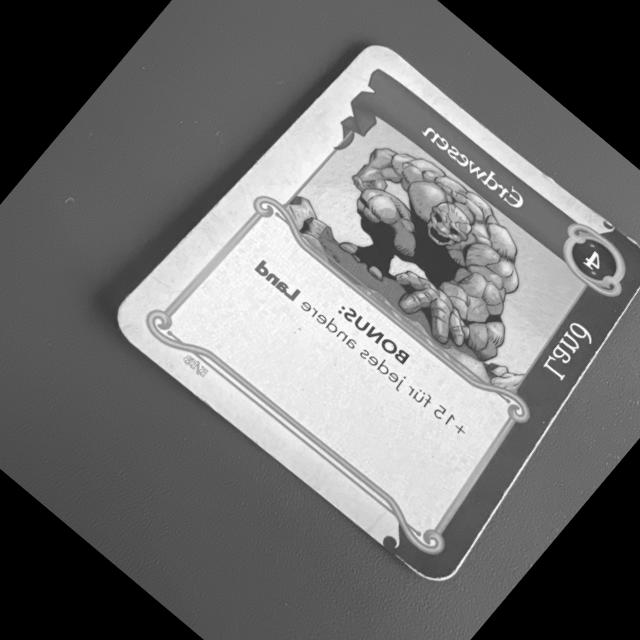Earth Elemental: (99, 35, 640, 596)
